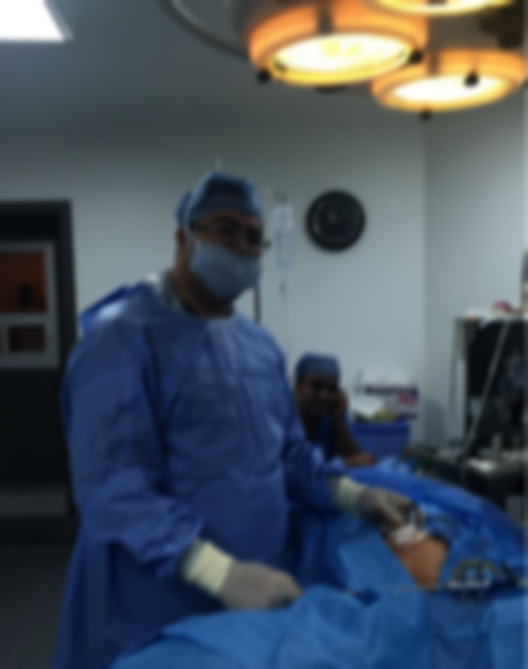mask_weared_incorrect: (175, 176, 277, 302)
